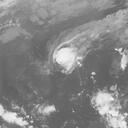cyclone: (47, 39, 85, 75)
